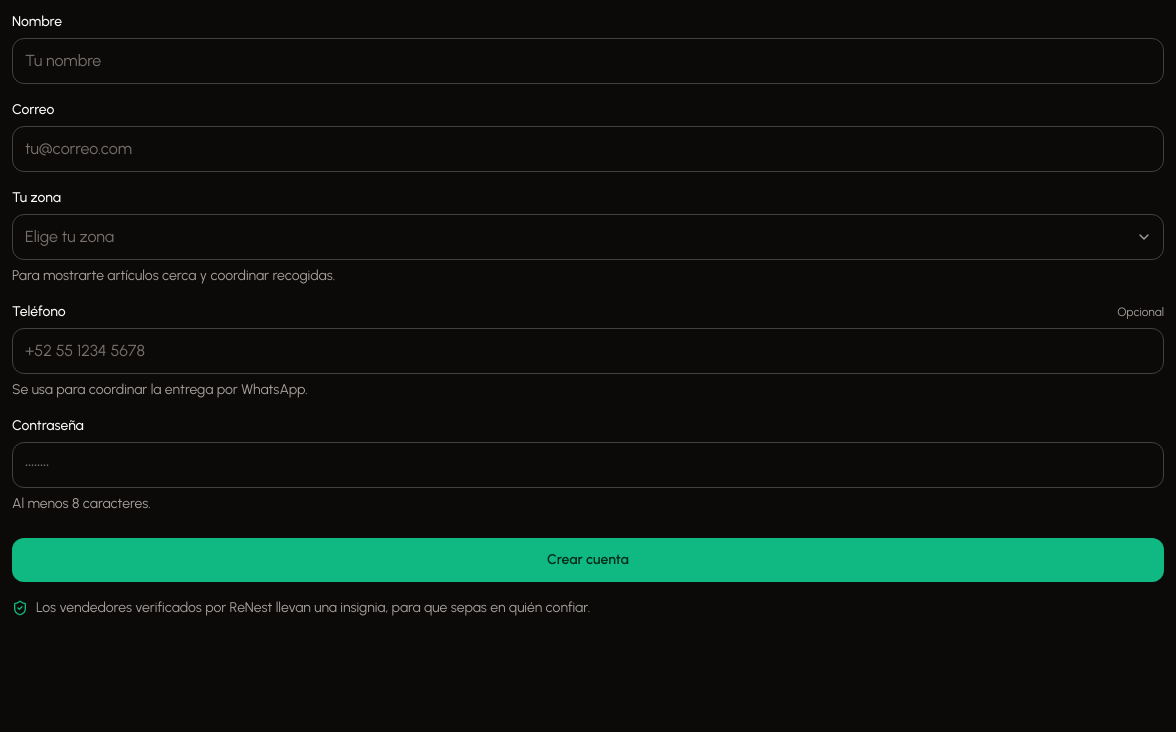
Scenario: RegisterForm › keeps the entered values, except the password
Type "Camila Torres" into the field labelled "Nombre" at (588, 61), box [12, 38, 1164, 84]
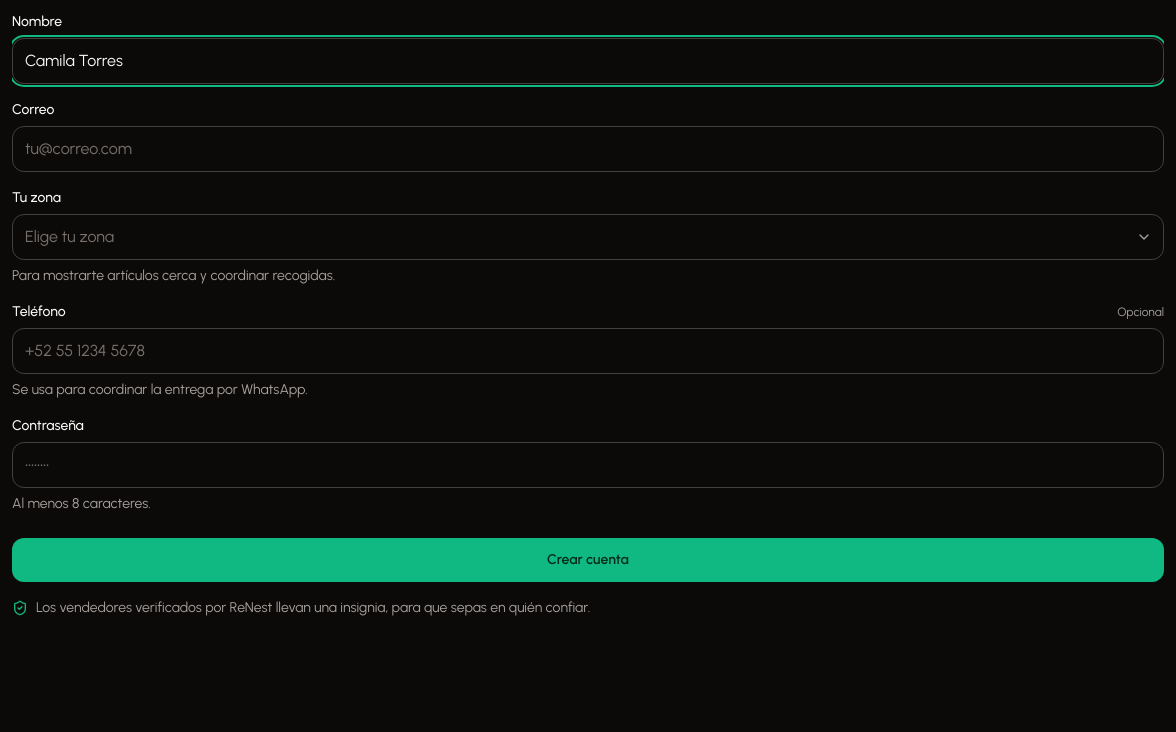
Type "camila@renest.app" into the field labelled "Correo" at (588, 149), box [12, 126, 1164, 172]
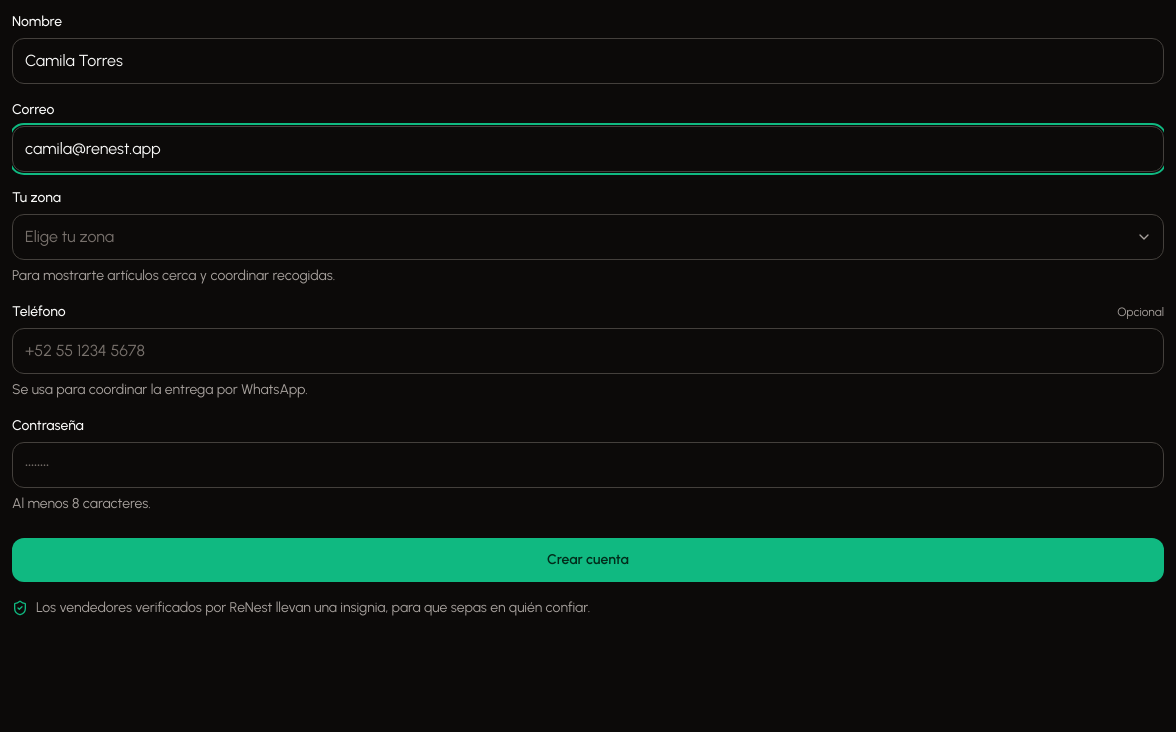
Select "Palermo, Buenos Aires" in the dropdown labelled "Tu zona" at (588, 237), box [12, 214, 1164, 260]
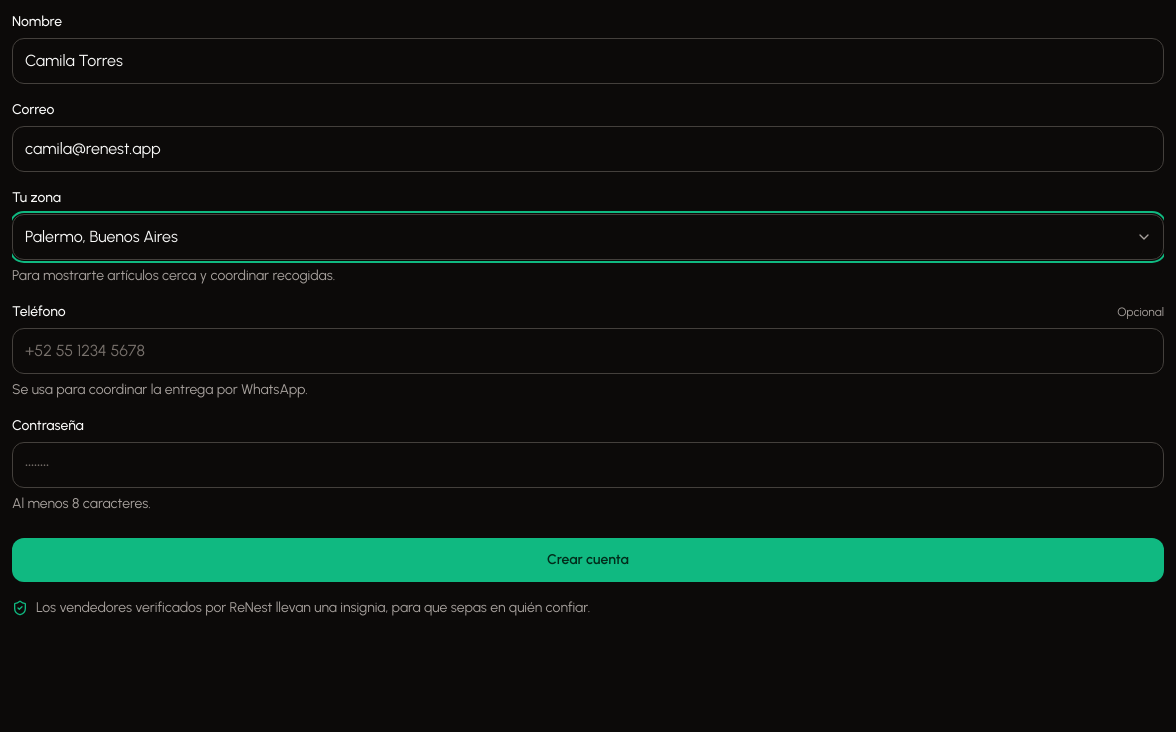
Type "+54 9 11 2345 6789" into the field labelled "Teléfono" at (588, 351), box [12, 328, 1164, 374]
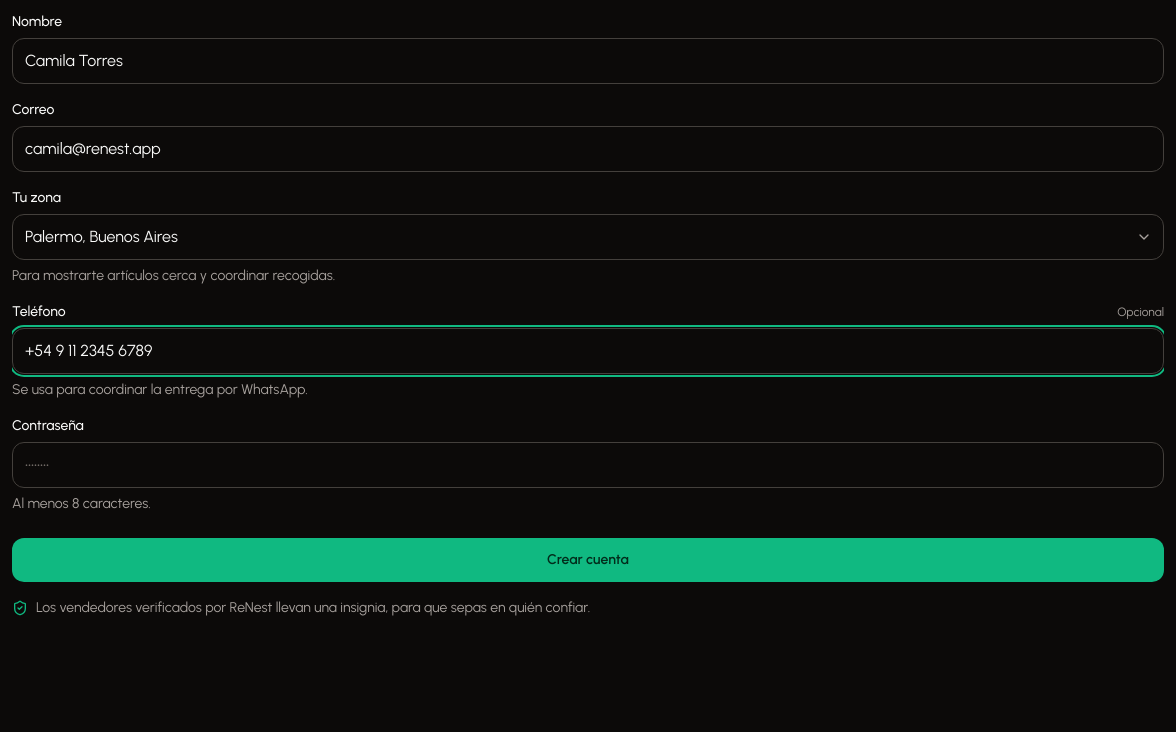
Type "secret123" into the password field labelled "Contraseña" at (588, 465), box [12, 442, 1164, 488]
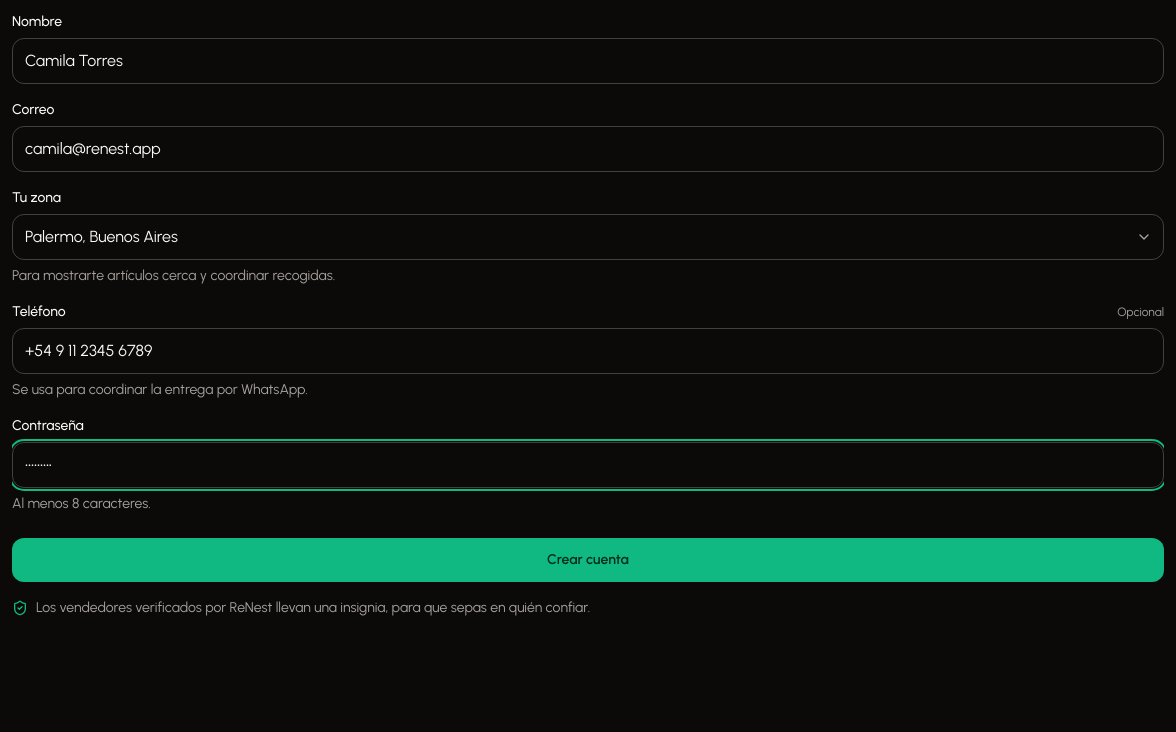
Click the button "Crear cuenta" at (588, 560), box [12, 538, 1164, 582]
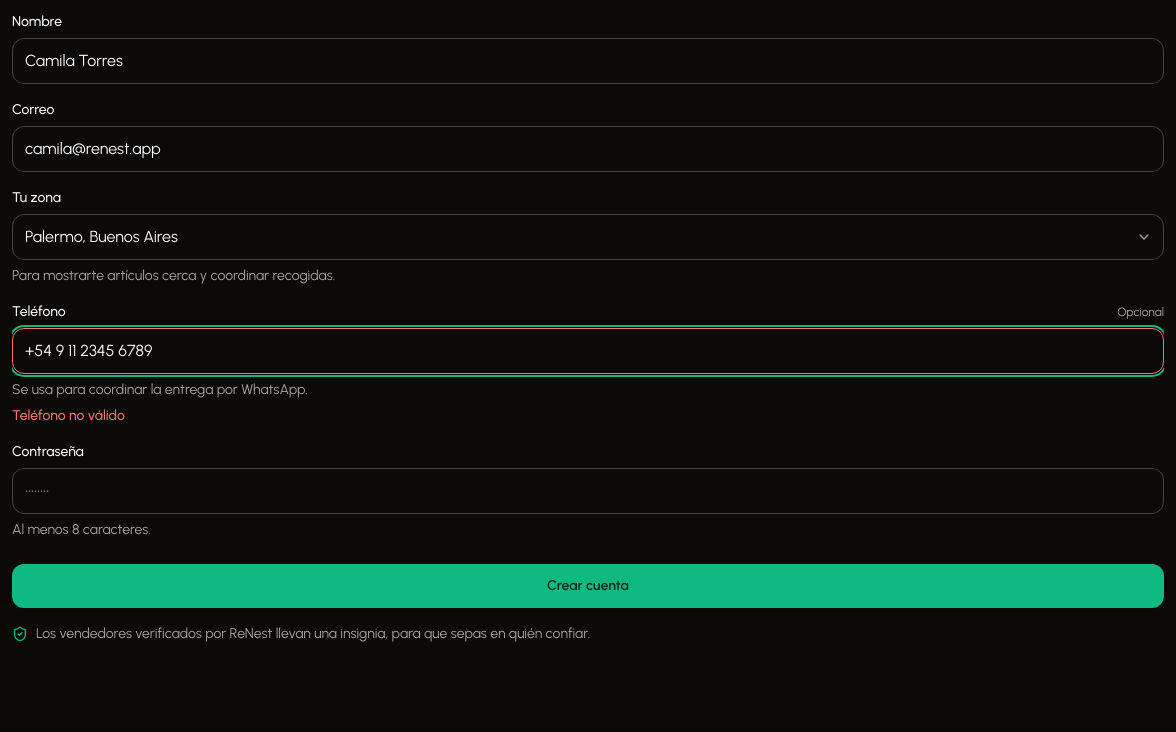
Expected: the dropdown labelled "Tu zona" shows "Palermo, Buenos Aires", [12, 214, 1164, 260]
Expected: the text "Teléfono no válido" is shown, [12, 407, 125, 424]
Expected: the password field labelled "Contraseña" is empty, [12, 468, 1164, 514]
